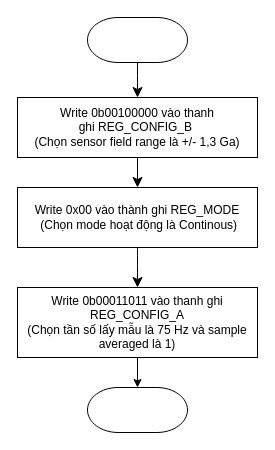
This 275x450 diagram has some shape labels left out. The centre of each missing label's shape, as x and y in pixels:
"Bắt đầu" goes at (x=137, y=39).
"Kết thúc" goes at (x=137, y=409).
